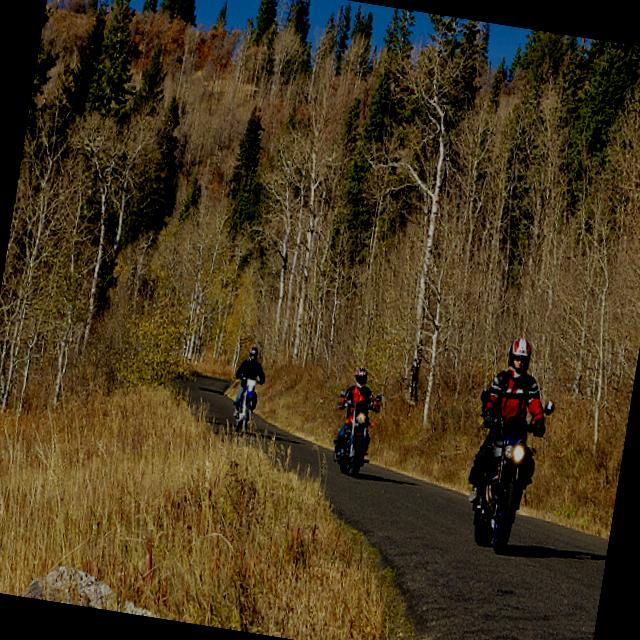Vehicle: (456, 389, 556, 560), (323, 381, 385, 479), (232, 376, 262, 434)
